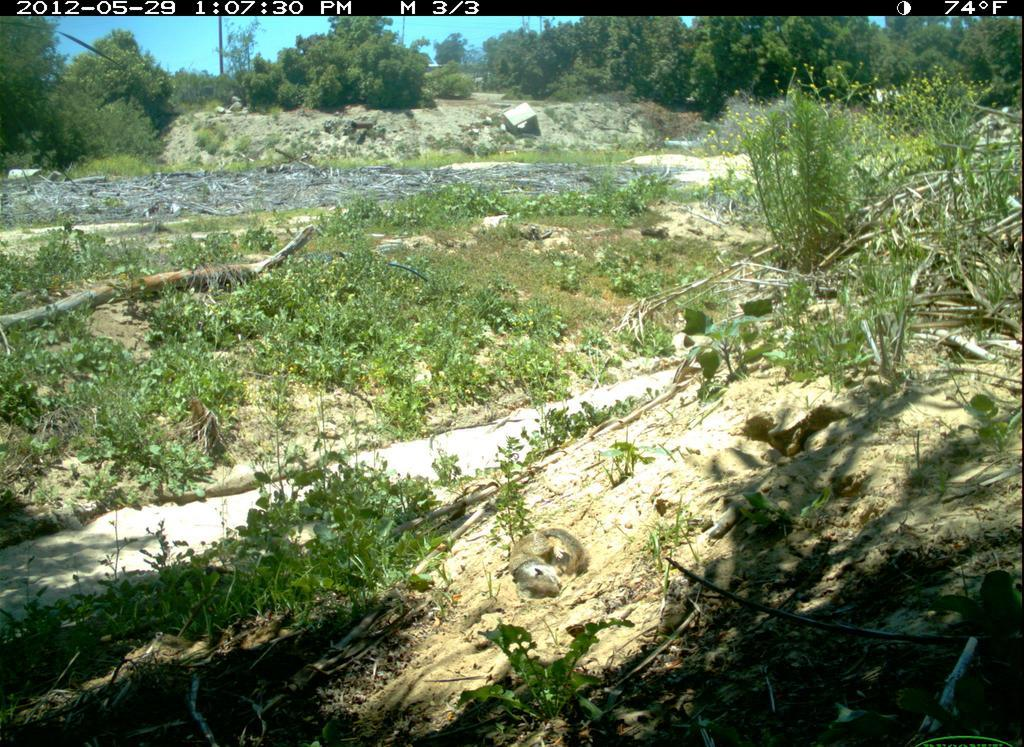squirrel: (506, 525, 600, 605)
